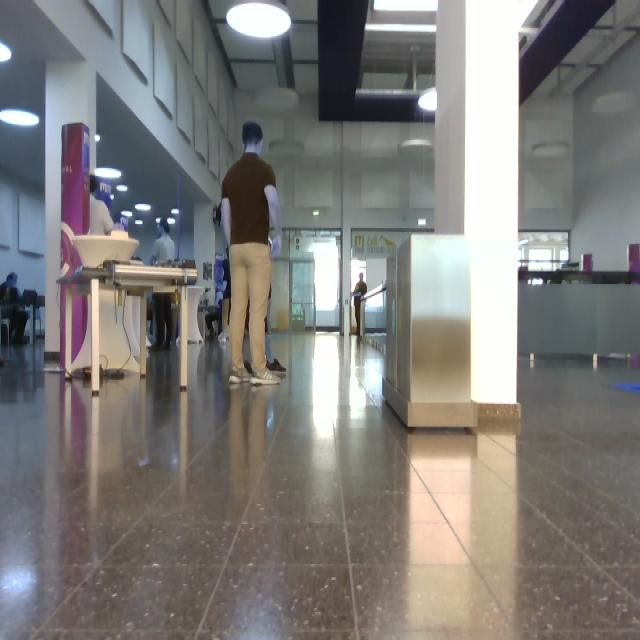door: (289, 230, 340, 332)
light bulb: (366, 1, 438, 34), (227, 1, 291, 37), (1, 109, 39, 128), (96, 169, 126, 190), (420, 88, 436, 112), (1, 42, 12, 64), (136, 204, 151, 212), (121, 210, 133, 217), (168, 218, 175, 225), (172, 209, 179, 214)
person: (221, 122, 280, 384), (89, 172, 114, 234), (153, 293, 174, 349), (152, 221, 175, 264), (353, 273, 368, 337), (11, 306, 29, 341), (1, 273, 19, 306)
pillar: (435, 1, 519, 405), (46, 62, 96, 352)
table: (57, 264, 198, 393)
tiled floor: (1, 336, 640, 640)
trash bin: (384, 234, 478, 429), (386, 236, 471, 401)
